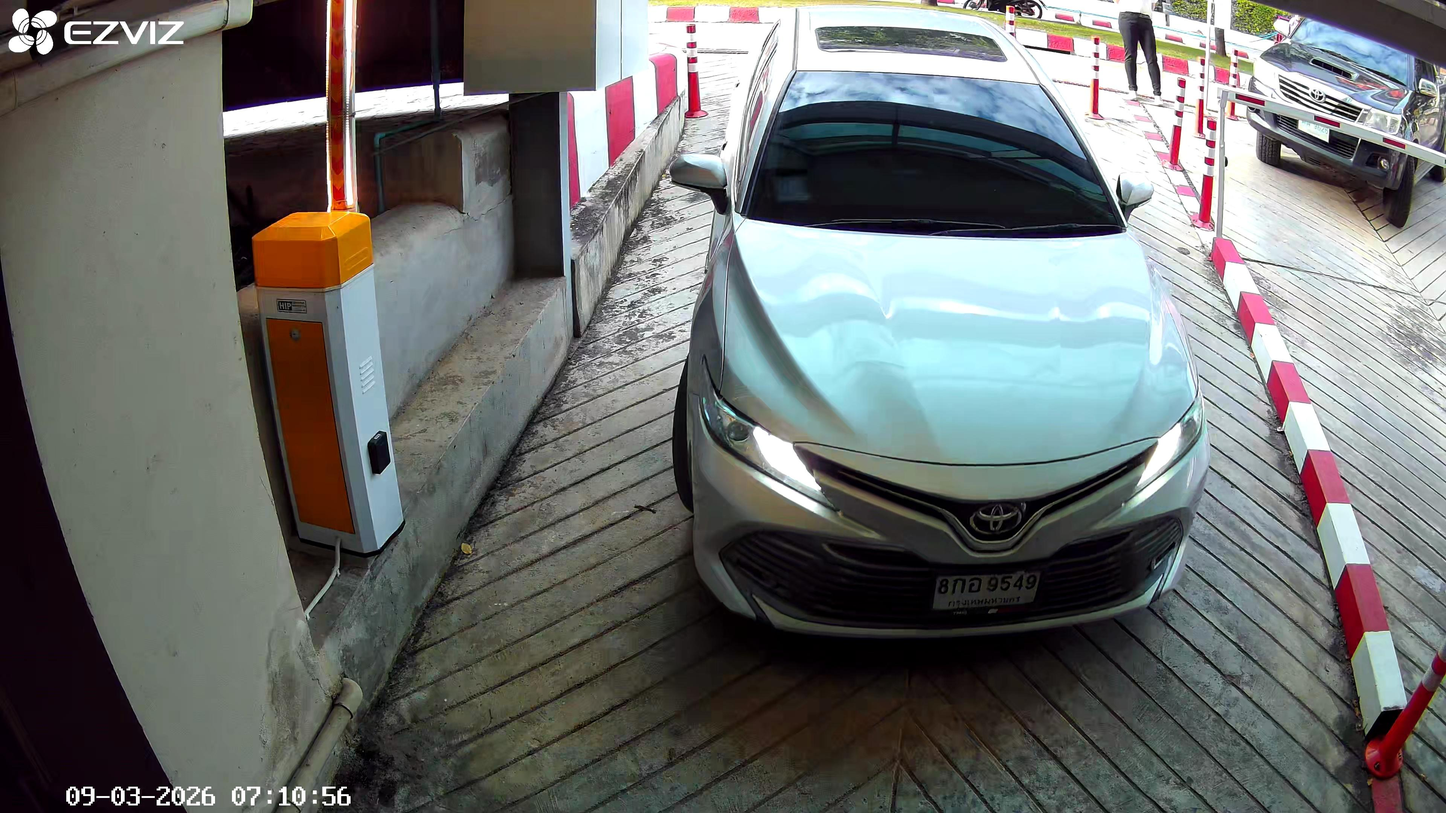car: (672, 6, 1206, 652)
license-plate: (929, 560, 1042, 618)
